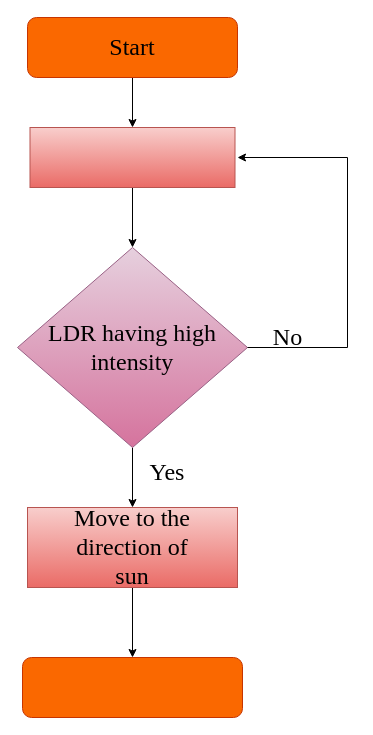
Image size: 373x735. Some labels were removed from this diagram. The shapes that lost their labels are listed below. From the top down, each one's centre as x and y in pixels, then its label:
At [132,157]: "Solar Panel".
At [132,687]: "Stop".
